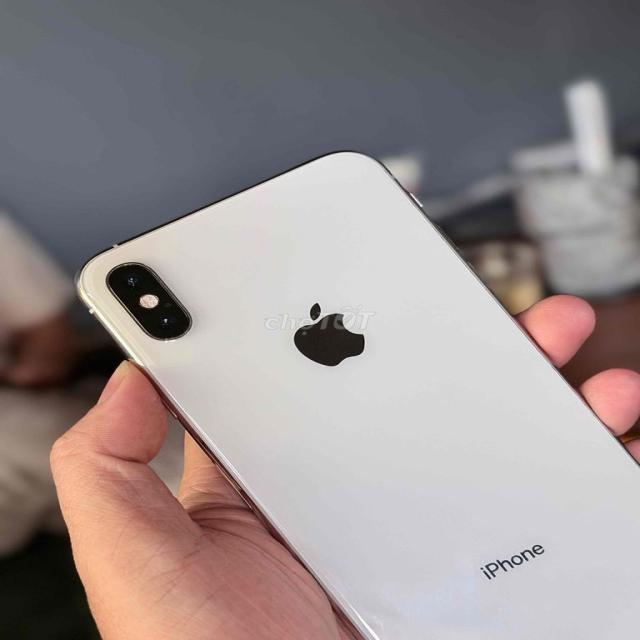gen_x_xs: (78, 152, 639, 639)
scratch: (112, 258, 138, 271), (158, 335, 197, 342)
